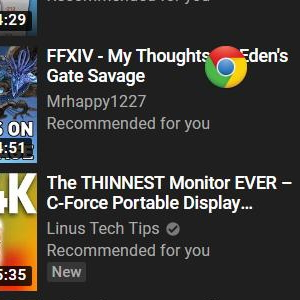chrome: (204, 45, 248, 89)
